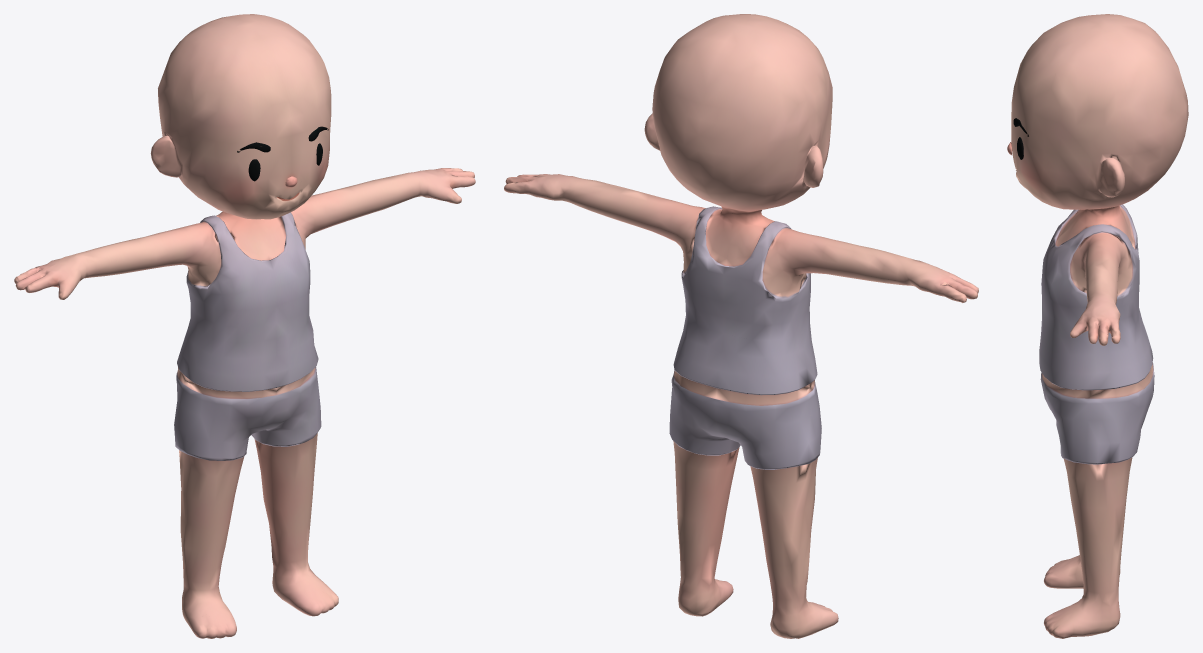
The model's file is body_male.fbx.
3 renders of one model, left to right at view 1: azimuth 30°, elevation 25°; view 2: azimuth 150°, elevation 25°; view 3: azimuth 270°, elevation 25°, orthographic. The views are drawn at different scales.
Visible parts, largest first — view 1: geometry_0; view 2: geometry_0; view 3: geometry_0.
Boxes of the visible parts, left/top/right/bottom form: geometry_0: left=14, top=14, right=475, bottom=638; geometry_0: left=504, top=14, right=978, bottom=638; geometry_0: left=1007, top=14, right=1188, bottom=638.
Bounding box in the file's own units: 77.98 × 95.02 × 26.76.
1 material, 1 textured.
